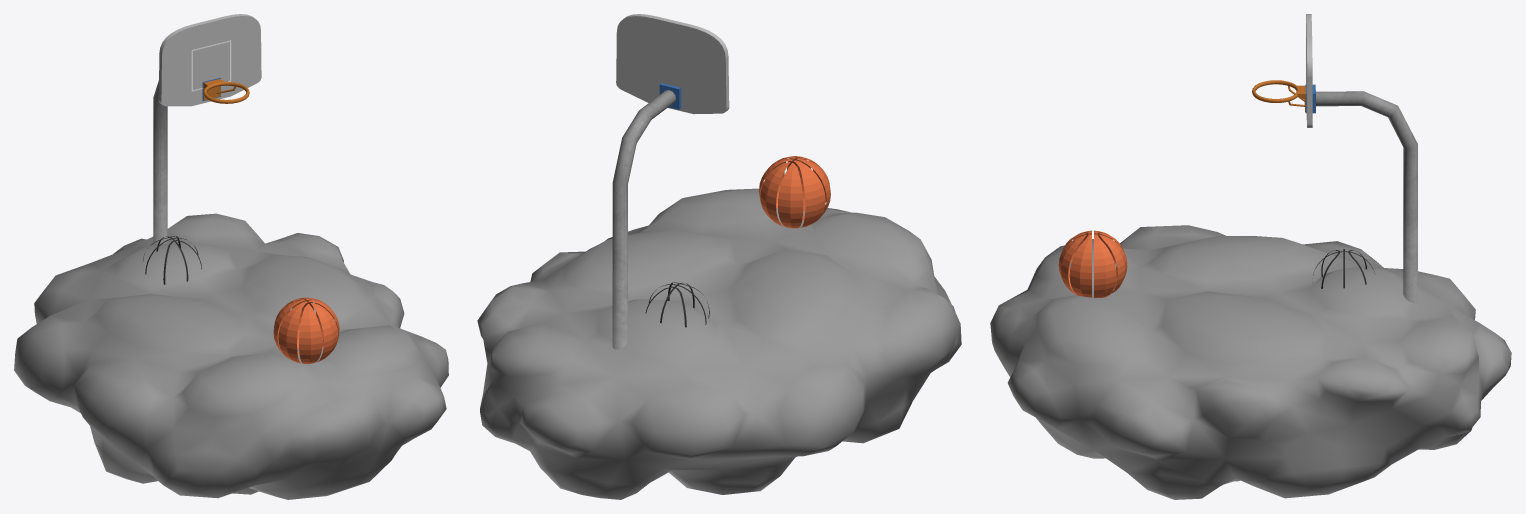
Rendered from basketball_on_cloud.glb.
3 views of the same model, side by side, from view 1: azimuth 30°, elevation 25°; view 2: azimuth 150°, elevation 25°; view 3: azimuth 270°, elevation 25° (orthographic). The views are drawn at different scales.
Visible parts, largest first — view 1: Object_3, Box002__0, BasketballBall, Line001__0, Torus001; view 2: Object_3, Box002__0, Line001__0, BasketballBall; view 3: Object_3, Line001__0, BasketballBall, Box002__0, Torus001.
Boxes of the visible parts, x1,y1,x2,y2 form: Object_3: (14, 213, 448, 499); Box002__0: (158, 14, 261, 106); BasketballBall: (142, 236, 339, 363); Line001__0: (153, 77, 220, 244); Torus001: (203, 79, 249, 103); Object_3: (477, 188, 961, 499); Box002__0: (616, 14, 729, 114); Line001__0: (612, 83, 681, 349); BasketballBall: (645, 156, 830, 327); Object_3: (990, 225, 1511, 499); Line001__0: (1305, 84, 1417, 303); BasketballBall: (1058, 230, 1375, 297); Box002__0: (1306, 14, 1312, 127); Torus001: (1252, 80, 1305, 112).
Bounding box in the file's own units: 5.36 × 6.36 × 6.76.
Materials: 4 (1 with a texture image).
